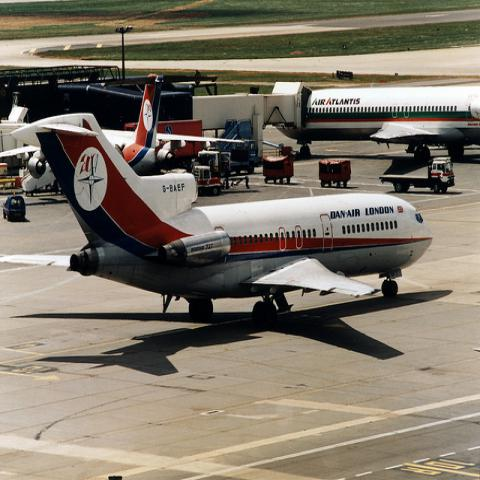car: (3, 195, 26, 222)
truck: (378, 159, 456, 194), (191, 150, 223, 198), (230, 139, 258, 174)
